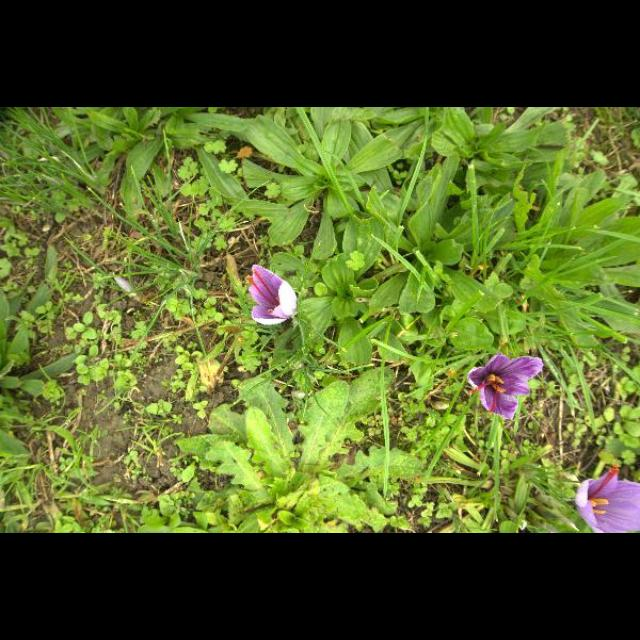flower: (466, 354, 544, 422), (576, 466, 640, 534), (246, 264, 298, 326)
